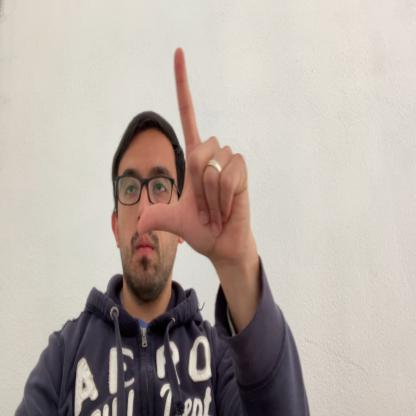L: (138, 46, 250, 267)
